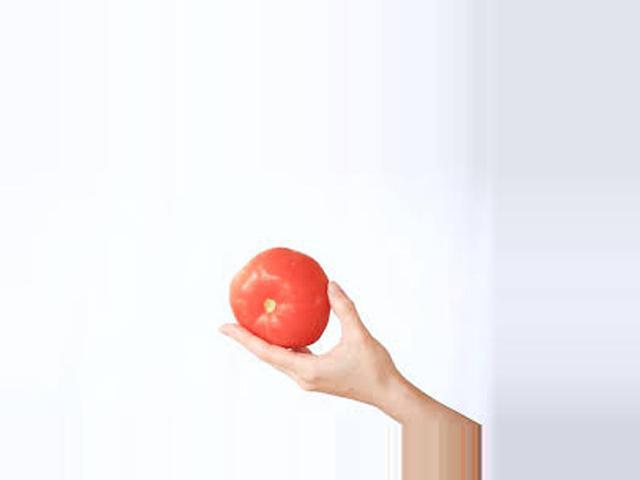tomato: (228, 248, 329, 346)
